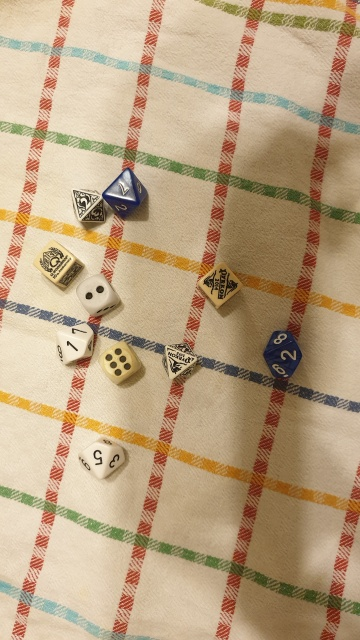d10-1: (46, 321, 98, 367)
d10-2: (260, 322, 308, 388)
d10-5: (73, 433, 131, 482)
d10-7: (98, 165, 149, 220)
d6-2: (74, 272, 125, 317)
d6-6: (96, 340, 145, 387)
d6p-1: (192, 257, 248, 314)
d6p-6: (28, 238, 85, 292)
d8p-1: (156, 332, 204, 386)
d8p-2: (66, 184, 107, 228)
